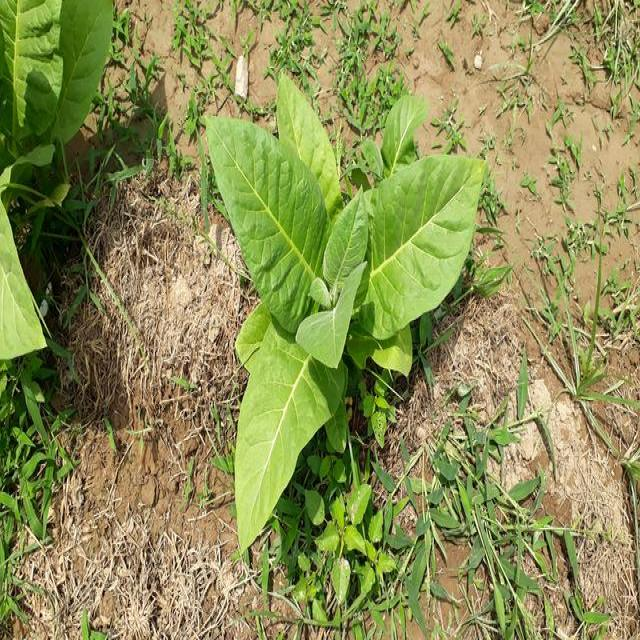crop: (203, 80, 477, 509), (0, 9, 115, 343)
